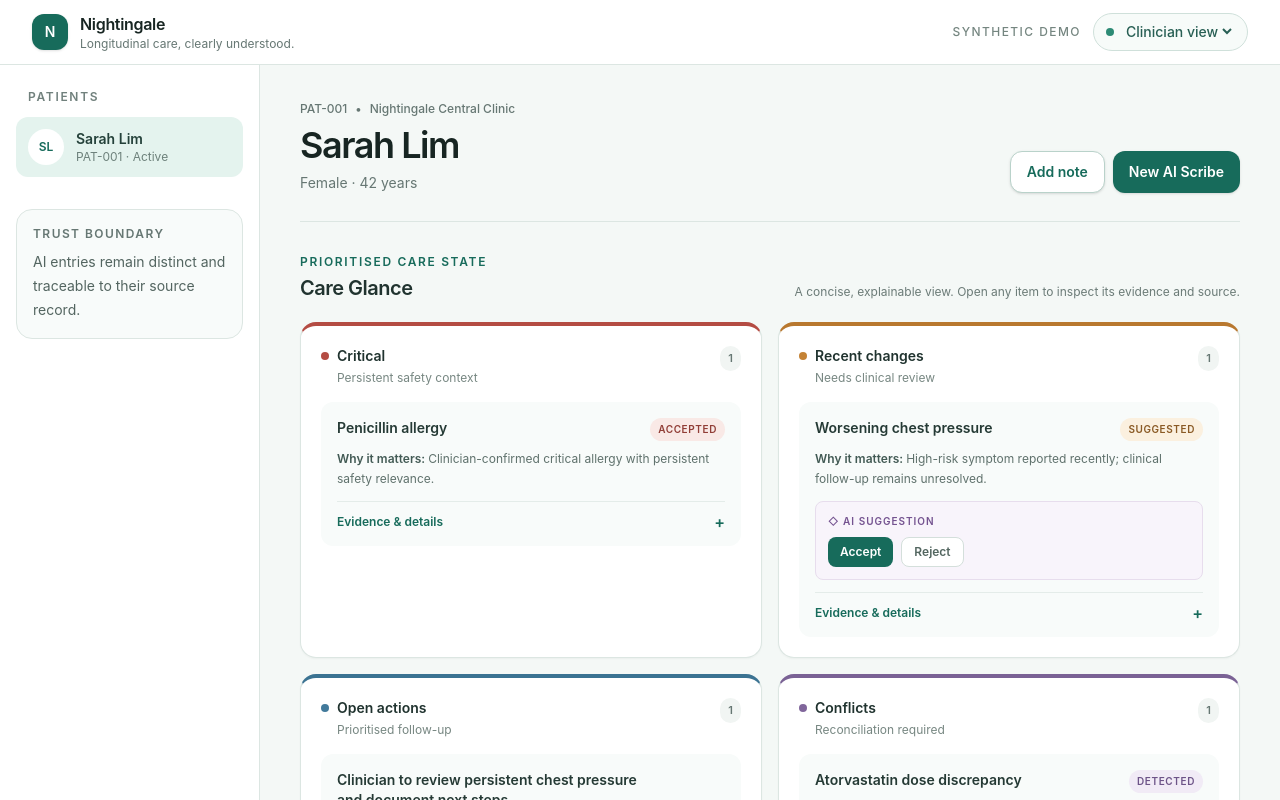
Test case: Nightingale application shell › renders the explainable four-section Care Glance with source jumps
Check: the heading "Care Glance" is shown, box left=300, top=276, right=412, bottom=300
Check: the heading "Penicillin allergy" is shown, box left=337, top=418, right=447, bottom=438
What coordinates should you click on to do the following:
click the heading "Evidence & details +" below "Accepted"
I would click on:
 (390, 522)
Its box is left=337, top=514, right=725, bottom=530.
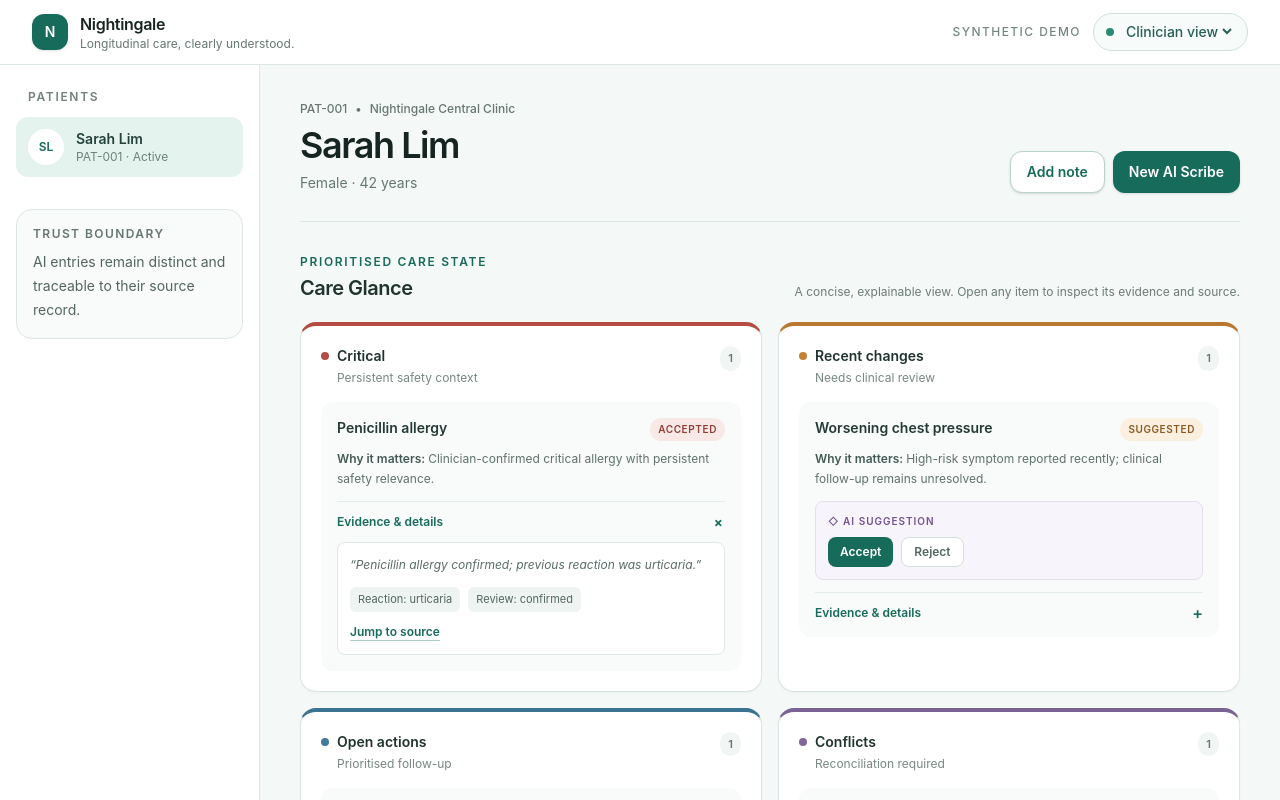
Check: the text "previous reaction was urticaria" is shown, box left=356, top=557, right=695, bottom=572
